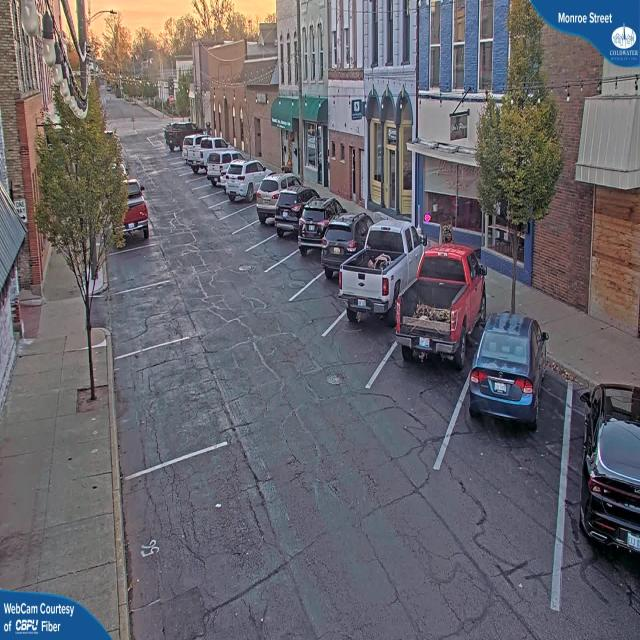available: (132, 434, 255, 630), (111, 343, 212, 451), (109, 277, 188, 345), (109, 233, 166, 287)
occupied: (568, 371, 640, 577), (468, 309, 548, 434), (338, 215, 429, 324), (406, 242, 468, 391), (110, 172, 152, 242), (273, 183, 318, 237), (298, 189, 332, 258), (224, 158, 272, 202), (323, 214, 357, 268), (256, 168, 286, 215), (189, 125, 213, 170), (166, 121, 188, 151), (206, 151, 224, 187), (182, 132, 198, 166)
